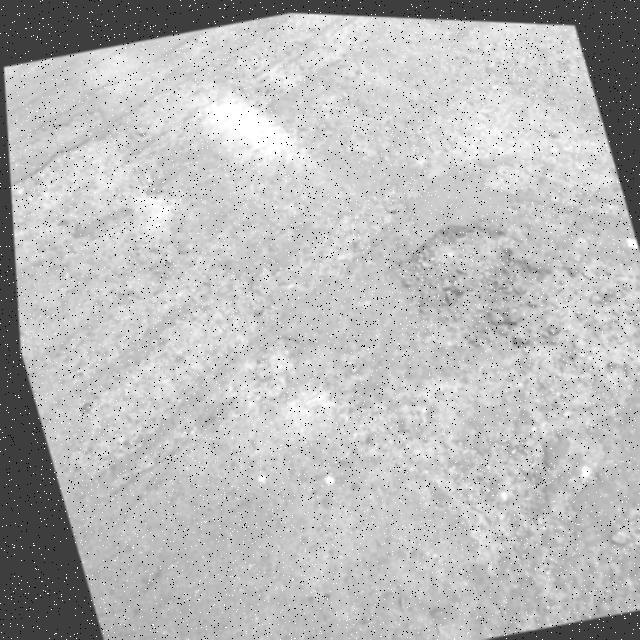pothole: (368, 164, 640, 460)
